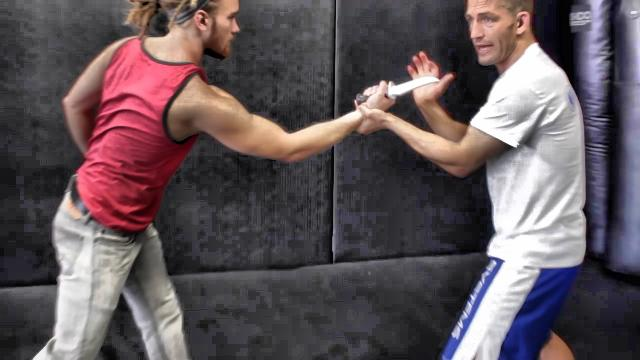knife: (350, 69, 446, 111)
